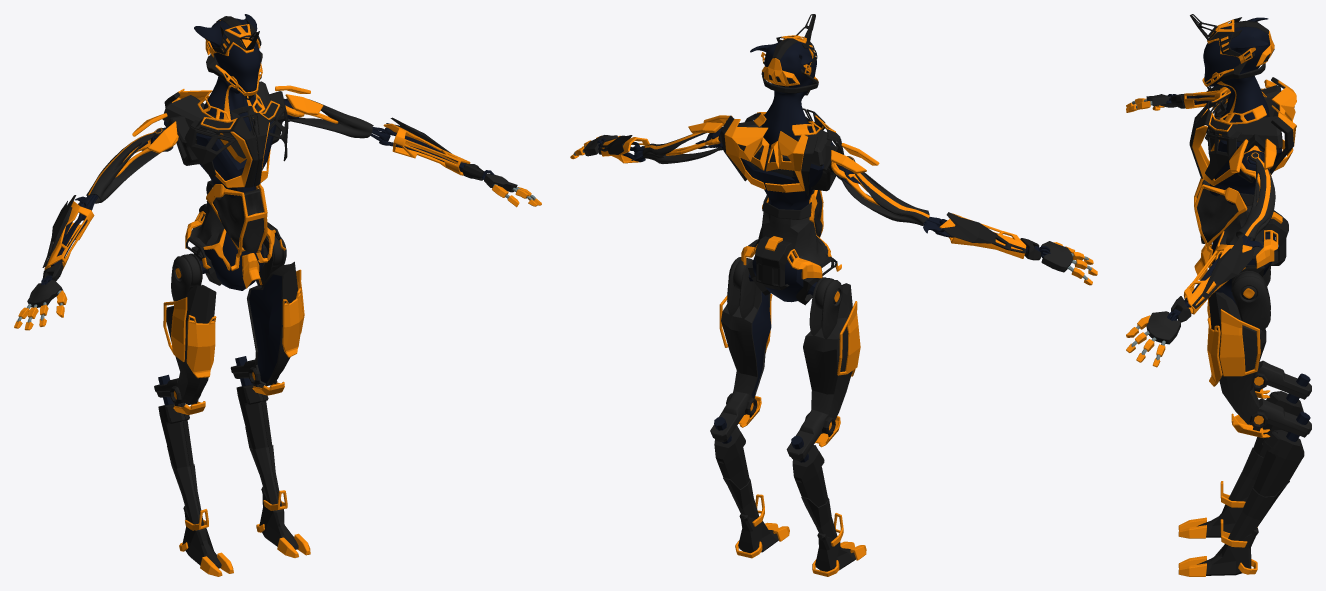
File: robot.glb
3 renders of one model, left to right at view 1: azimuth 30°, elevation 25°; view 2: azimuth 150°, elevation 25°; view 3: azimuth 270°, elevation 25°, orthographic.
Visible parts, largest first — view 1: Cube.003; view 2: Cube.003; view 3: Cube.003.
Boxes of the visible parts, x1,y1,x2,y2 form: Cube.003: (14,14,541,576); Cube.003: (570,14,1097,576); Cube.003: (1126,14,1311,576).
Size of the model in its own units: 17.45 by 16.9 by 5.3.
